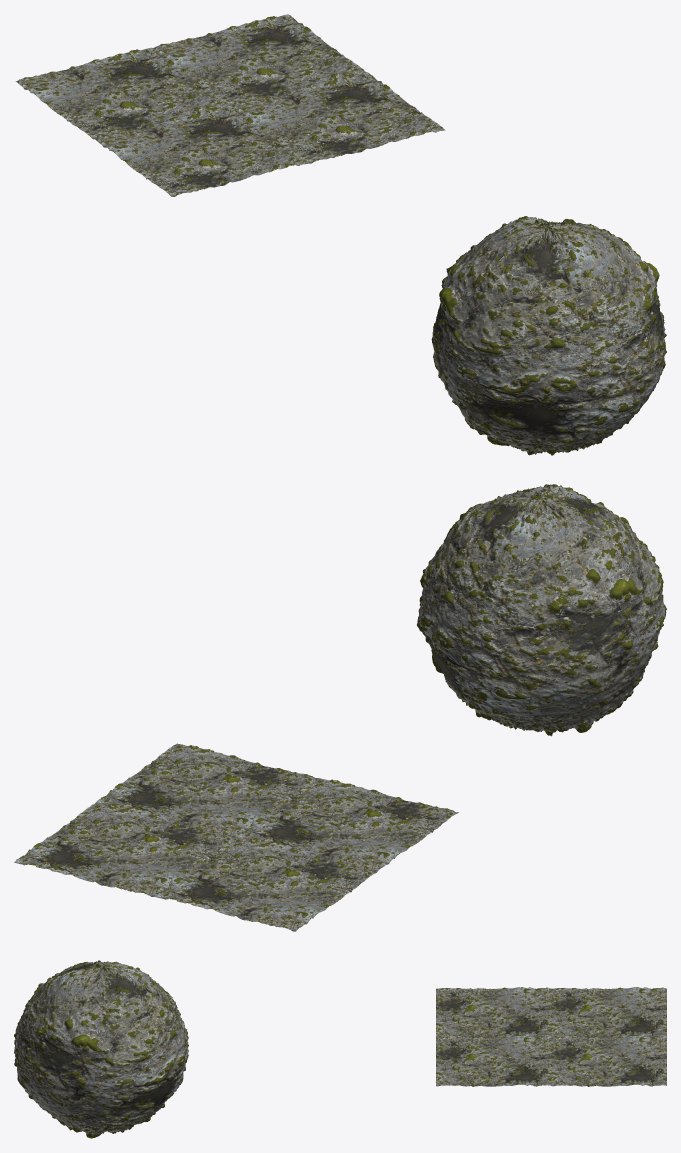
3 views of the same model, one above another, from view 1: azimuth 30°, elevation 25°; view 2: azimuth 150°, elevation 25°; view 3: azimuth 270°, elevation 25° (orthographic). The views are drawn at different scales.
Visible parts, largest first — view 1: stone_oxy_moss_water, Plane001; view 2: stone_oxy_moss_water, Plane001; view 3: stone_oxy_moss_water, Plane001.
Part boxes in pixels (x1,y1,x2,y2): stone_oxy_moss_water: [431, 216, 666, 455]; Plane001: [15, 14, 445, 196]; stone_oxy_moss_water: [417, 484, 666, 736]; Plane001: [14, 743, 458, 931]; stone_oxy_moss_water: [14, 960, 188, 1138]; Plane001: [436, 987, 666, 1086].
Bounding box in the file's own units: 6.73 × 5.25 × 19.03.
